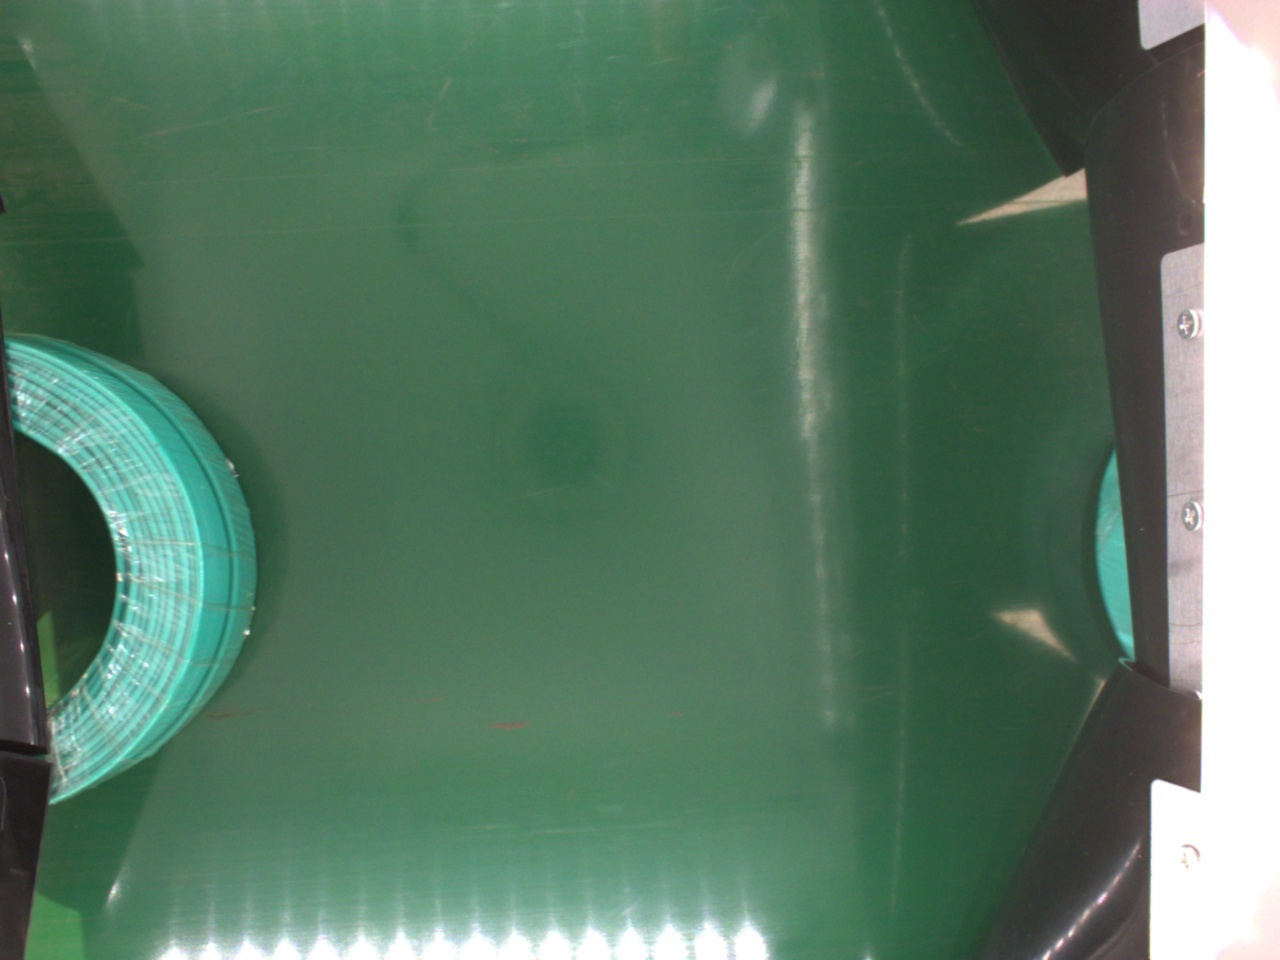green: (5, 334, 259, 808)
